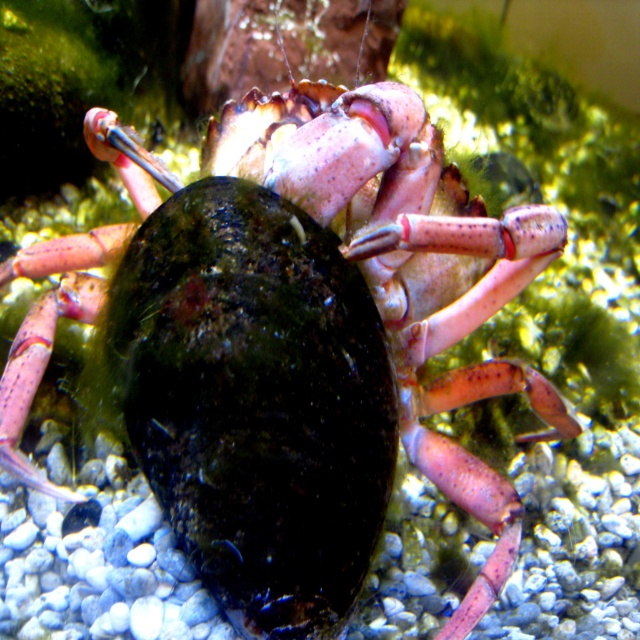Crab: (0, 77, 584, 639)
